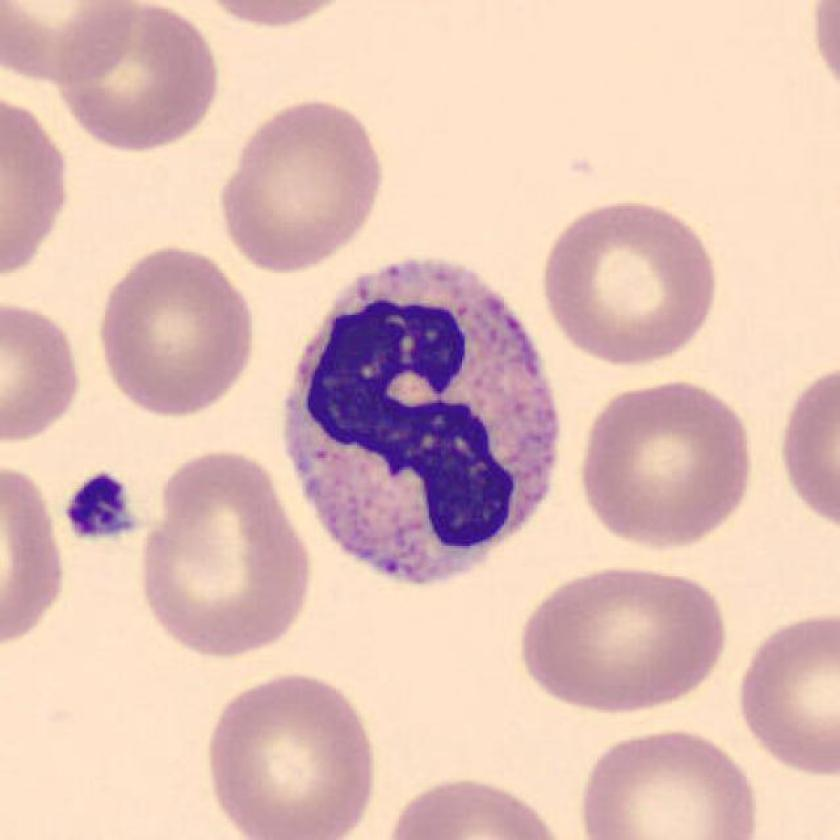neutrophil: (287, 261, 559, 582)
